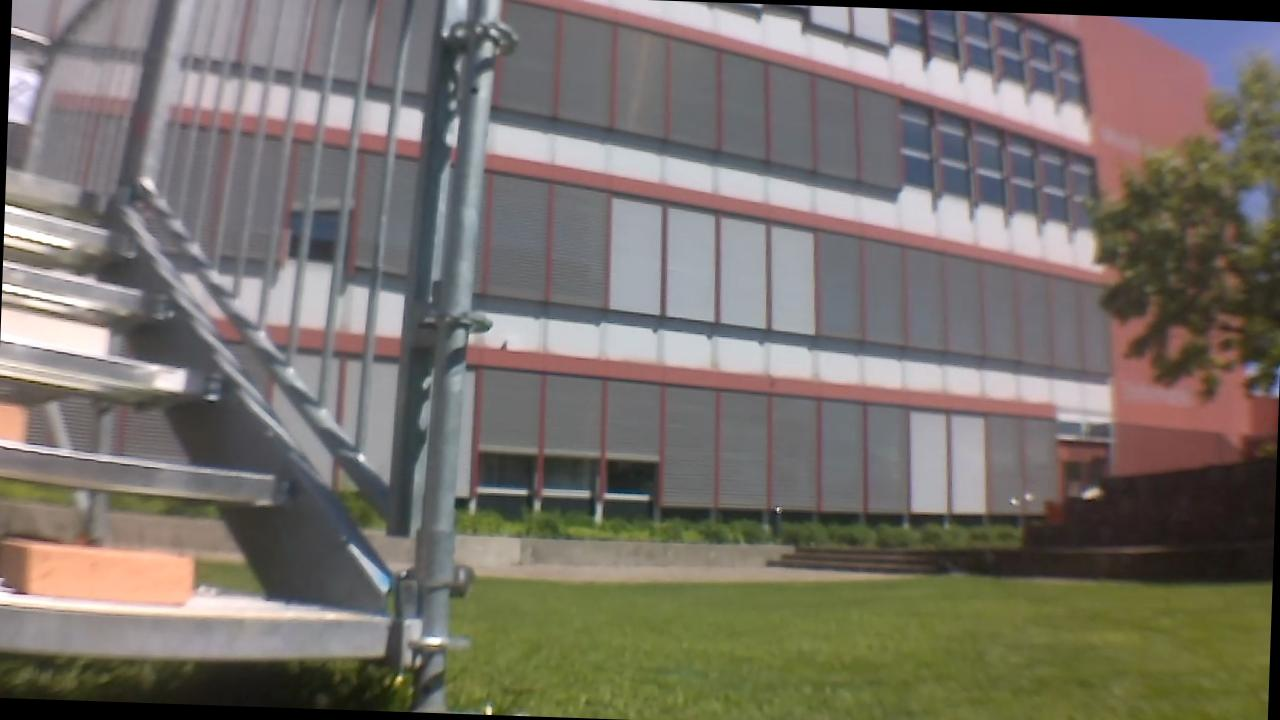brick: (6, 537, 199, 600)
